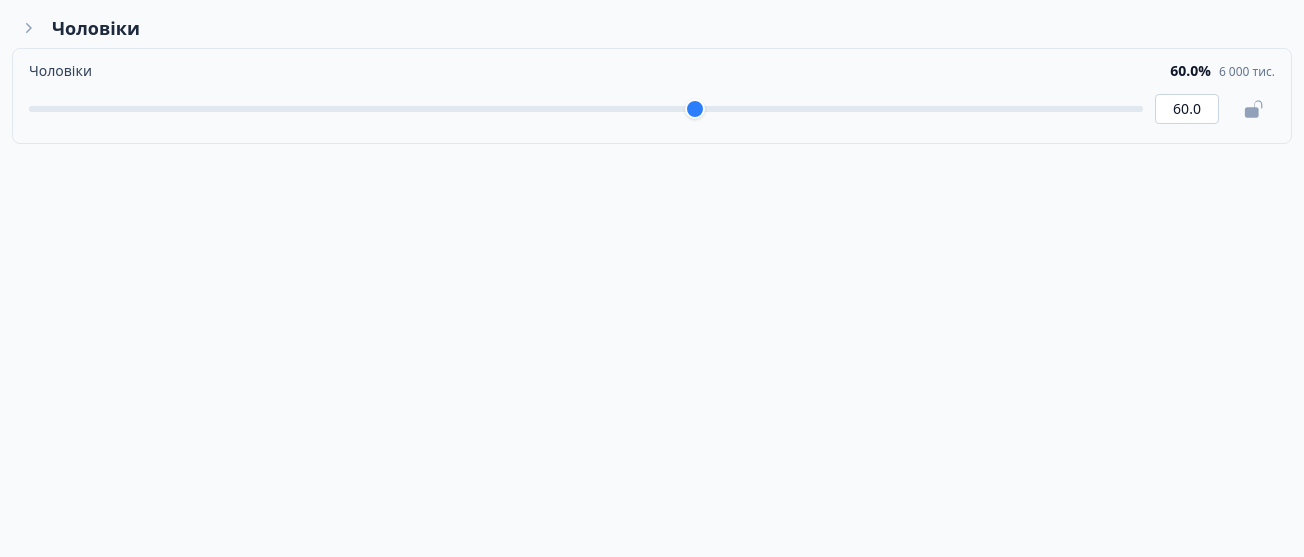
Test: TreePanel IT subcategory expand/collapse › hides IT subcategories when IT is collapsed by user
Expand industries (IT is auto-expanded), then collapse IT
Step 1. Click the button with aria-label "expand чоловіки" → (96, 28), box [12,12,1292,44]
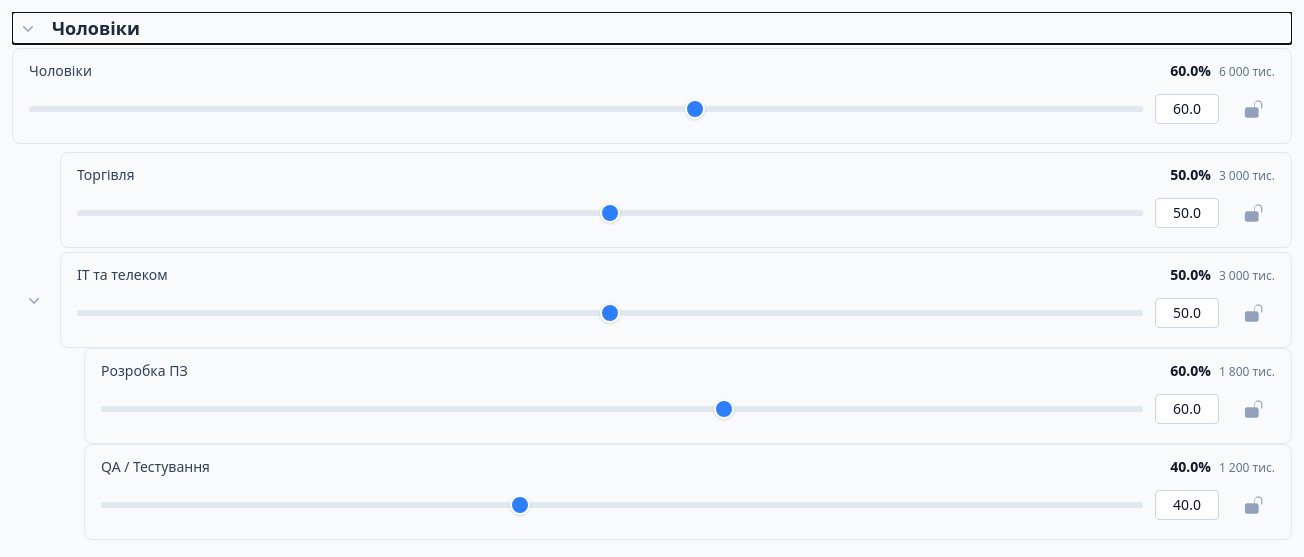
Step 2. Click the button named "collapse it та телеком" → (34, 300), box [12,278,56,322]
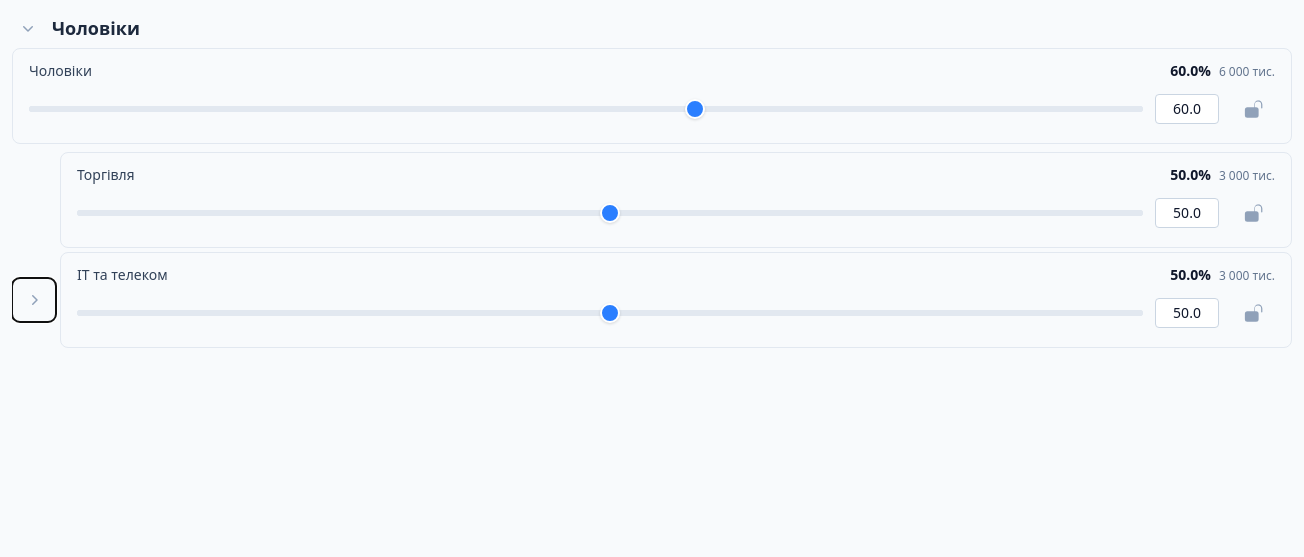
Check: the text "Розробка ПЗ" is gone
Check: the text "QA / Тестування" is gone
